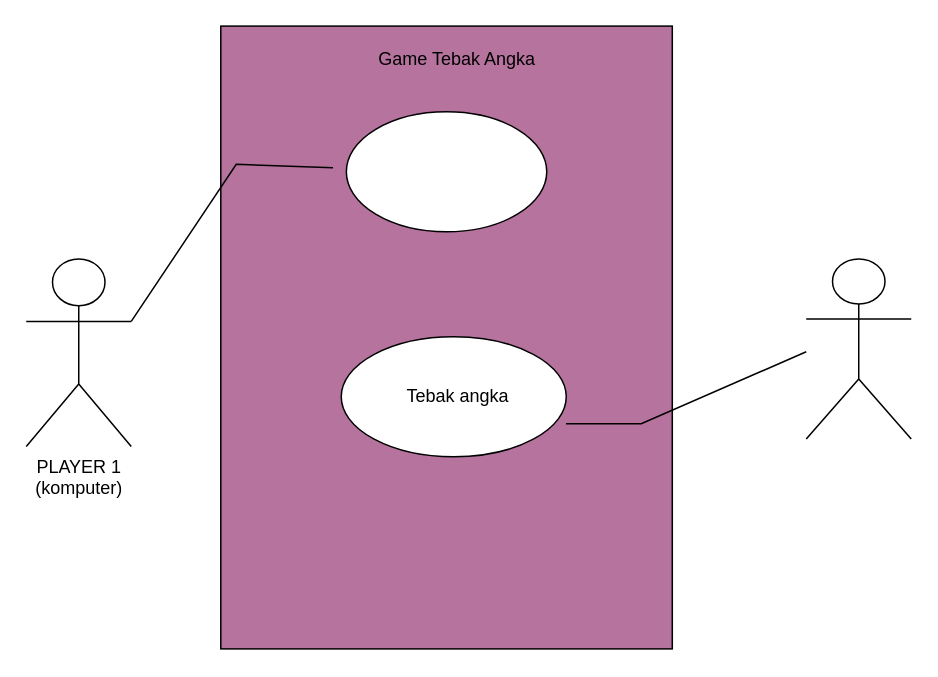
Image size: 938x677. Some labels were removed from this diagram. The centre of each missing label's shape, as x and y in pixels:
"PLAYER2 (komputer)" goes at pixel 858 348.
"Random angka" goes at pixel 446 171.
